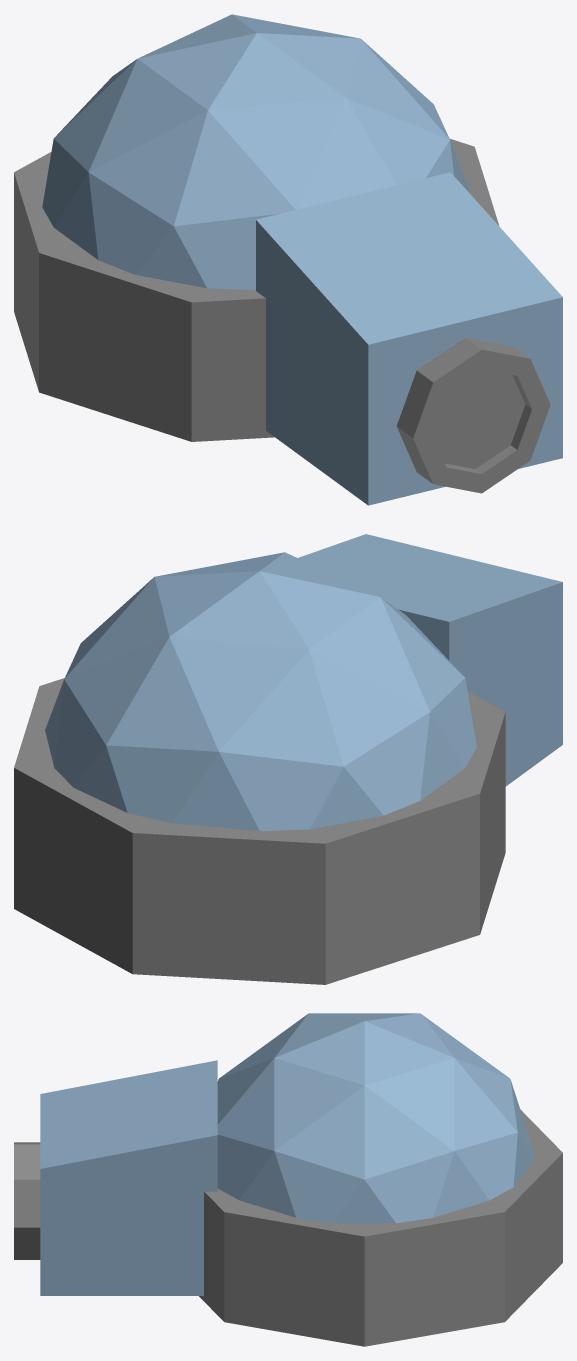
File: labs.fbx
3 renders of one model, top to bottom at view 1: azimuth 30°, elevation 25°; view 2: azimuth 150°, elevation 25°; view 3: azimuth 270°, elevation 25°, orthographic. The views are drawn at different scales.
Parts seen in each view (by area): view 1: Icosphere, Cube, Cylinder, Cylinder.001; view 2: Icosphere, Cylinder, Cube; view 3: Icosphere, Cylinder, Cube, Cylinder.001.
Part boxes in pixels (bbox=[...]): Icosphere: bbox=[42, 14, 468, 289]; Cube: bbox=[256, 172, 562, 505]; Cylinder: bbox=[14, 139, 499, 441]; Cylinder.001: bbox=[396, 337, 550, 493]; Icosphere: bbox=[45, 552, 476, 830]; Cylinder: bbox=[14, 678, 505, 984]; Cube: bbox=[298, 534, 562, 786]; Icosphere: bbox=[217, 1013, 532, 1223]; Cylinder: bbox=[199, 1109, 562, 1346]; Cube: bbox=[40, 1060, 217, 1295]; Cylinder.001: bbox=[14, 1142, 40, 1259].
Size of the model in its own units: 200 by 134 by 277.
